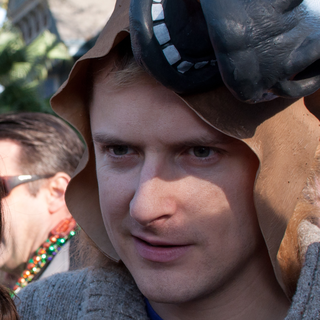eye: (173, 140, 227, 164), (103, 138, 145, 163)
